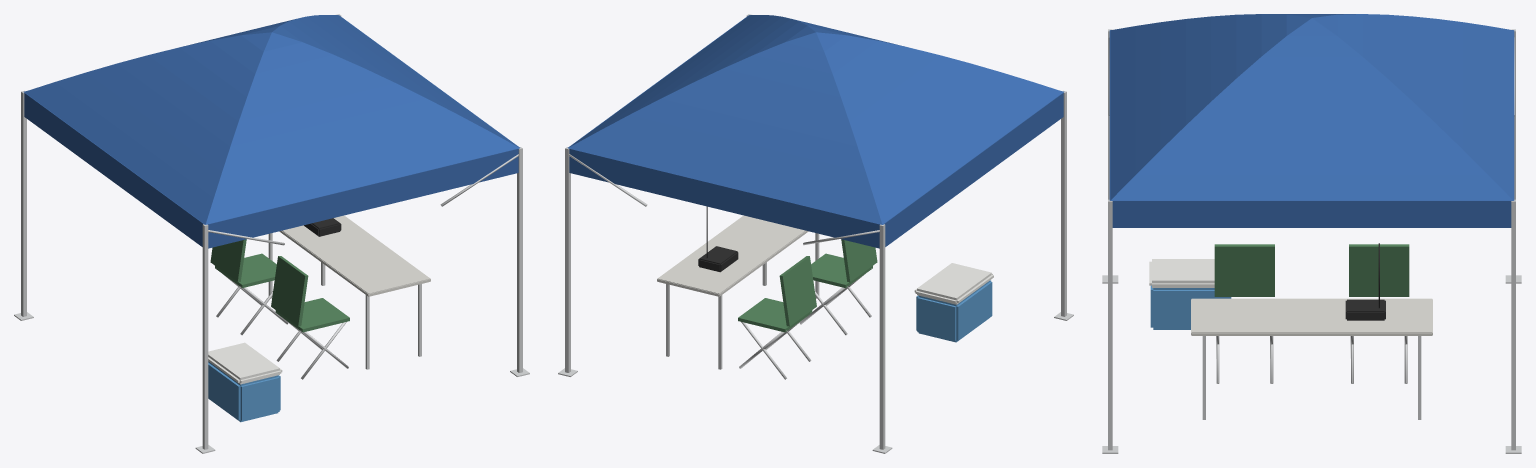
Rendered from pist_tent.glb.
3 views of the same model, side by side, from view 1: azimuth 30°, elevation 25°; view 2: azimuth 150°, elevation 25°; view 3: azimuth 270°, elevation 25° (orthographic). The views are drawn at different scales.
Parts seen in each view (by area): view 1: tent_roof, valance_1, table_top, valance_2, cooler, cooler_lid, chair_back_1, leg_3, leg_2, leg_0, chair_seat_1, chair_seat_0 (+1 smaller); view 2: tent_roof, valance_0, table_top, valance_2, cooler, cooler_lid, chair_back_0, leg_0, leg_1, leg_3, chair_seat_0, chair_seat_1 (+2 smaller); view 3: tent_roof, valance_3, table_top, chair_back_1, chair_back_0, cooler, cooler_lid, leg_1, leg_2, radio.
Boxes of the visible parts, box(x1,y1,x2,y2) form: tent_roof: box(24, 15, 519, 224); valance_1: box(207, 148, 519, 248); table_top: box(279, 215, 430, 296); valance_2: box(24, 92, 204, 246); cooler: box(208, 361, 280, 422); cooler_lid: box(208, 342, 282, 384); chair_back_1: box(271, 256, 308, 326); leg_3: box(202, 224, 208, 449); leg_2: box(517, 147, 522, 372); leg_0: box(21, 90, 26, 316); chair_seat_1: box(275, 298, 349, 332); chair_seat_0: box(215, 253, 276, 288); tent_roof: box(568, 15, 1063, 224); valance_0: box(568, 148, 880, 248); table_top: box(657, 215, 808, 296); valance_2: box(883, 92, 1063, 246); cooler: box(916, 280, 992, 342); cooler_lid: box(914, 263, 993, 304); chair_back_0: box(779, 256, 816, 326); leg_0: box(879, 224, 885, 449); leg_1: box(565, 147, 570, 372); leg_3: box(1061, 90, 1066, 316); chair_seat_0: box(738, 298, 812, 332); chair_seat_1: box(811, 253, 872, 288); tent_roof: box(1110, 14, 1513, 200); valance_3: box(1110, 200, 1513, 227); table_top: box(1191, 298, 1432, 335); chair_back_1: box(1214, 244, 1274, 296); chair_back_0: box(1349, 244, 1409, 296); cooler: box(1150, 285, 1231, 329); cooler_lid: box(1149, 259, 1214, 287); leg_1: box(1511, 199, 1515, 450); leg_2: box(1108, 199, 1112, 450); radio: box(1345, 299, 1385, 320).
Size of the model in its own units: 3.12 by 2.86 by 3.12.
